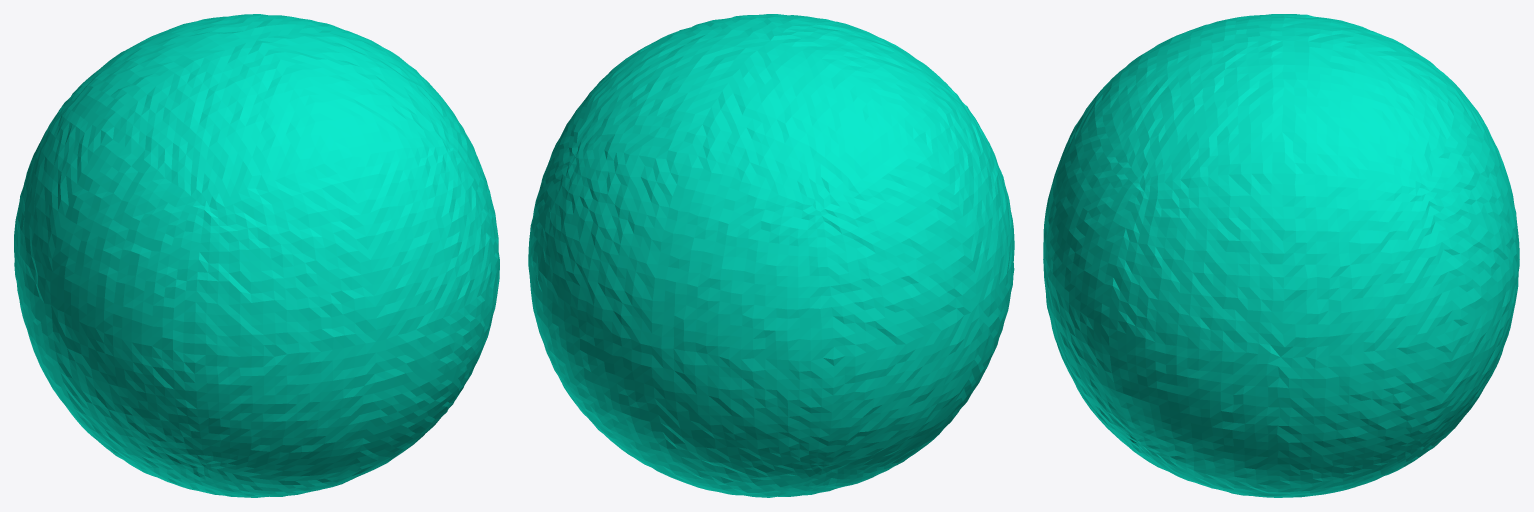
The model's file is Sea48.fbx.
3 renders of one model, left to right at view 1: azimuth 30°, elevation 25°; view 2: azimuth 150°, elevation 25°; view 3: azimuth 270°, elevation 25°, orthographic.
Visible parts, largest first — view 1: pCube1; view 2: pCube1; view 3: pCube1.
Part boxes in pixels (x1,y1,x2,y2): pCube1: (14,14,499,497); pCube1: (528,14,1014,497); pCube1: (1043,14,1519,497).
Size of the model in its own units: 40.56 by 40.6 by 40.54.
